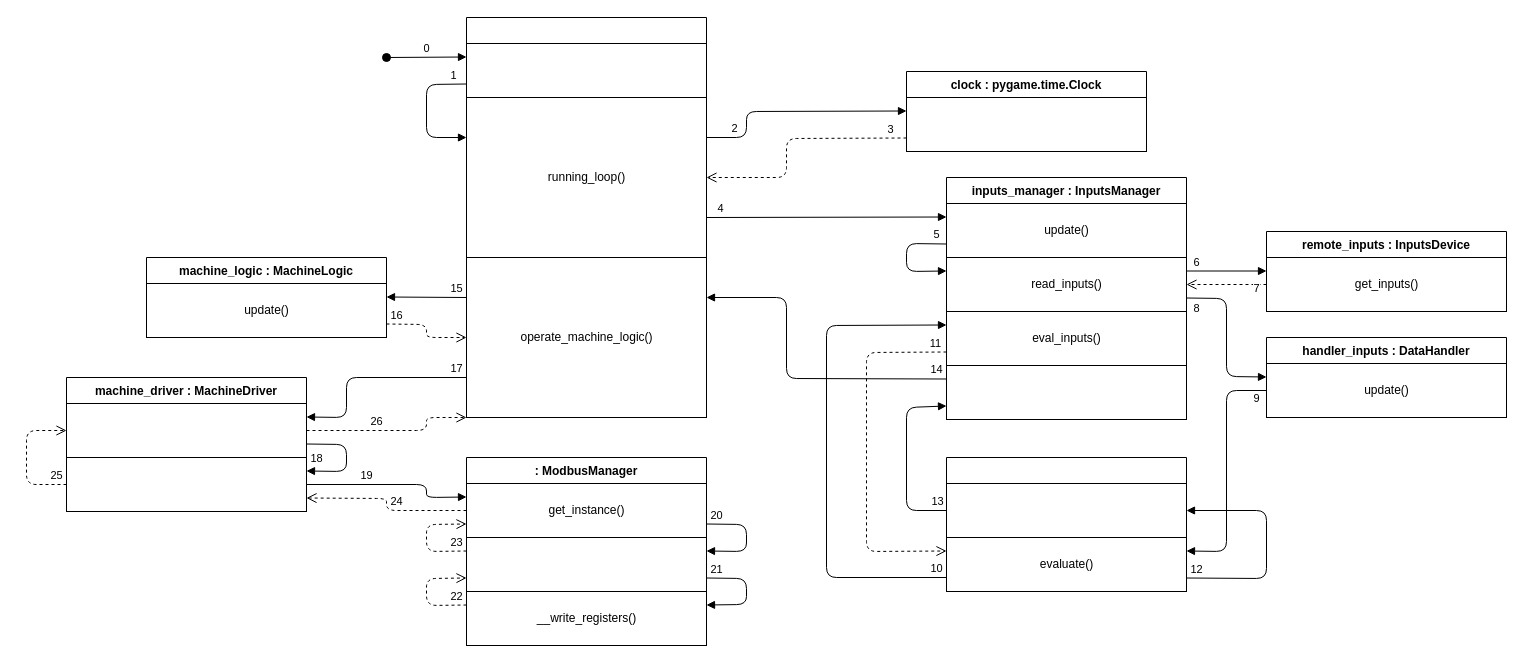
Image size: 1524x663. Some labels were removed from this diagram. Each missing label, with the box of its shape:
: DataEvaluation: (946, 456, 1186, 592)
cb_on_inputs_changed(): (946, 364, 1186, 420)
controller : Controller: (466, 16, 706, 418)
fire(): (946, 482, 1186, 538)
operate_with_logic(): (66, 402, 306, 458)
run(): (466, 42, 706, 98)
set_all(): (66, 456, 306, 512)
tick(): (906, 96, 1146, 152)
write(): (466, 536, 706, 592)
